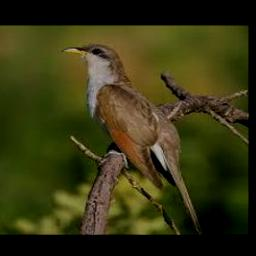Cuckoo: (62, 44, 204, 234)
